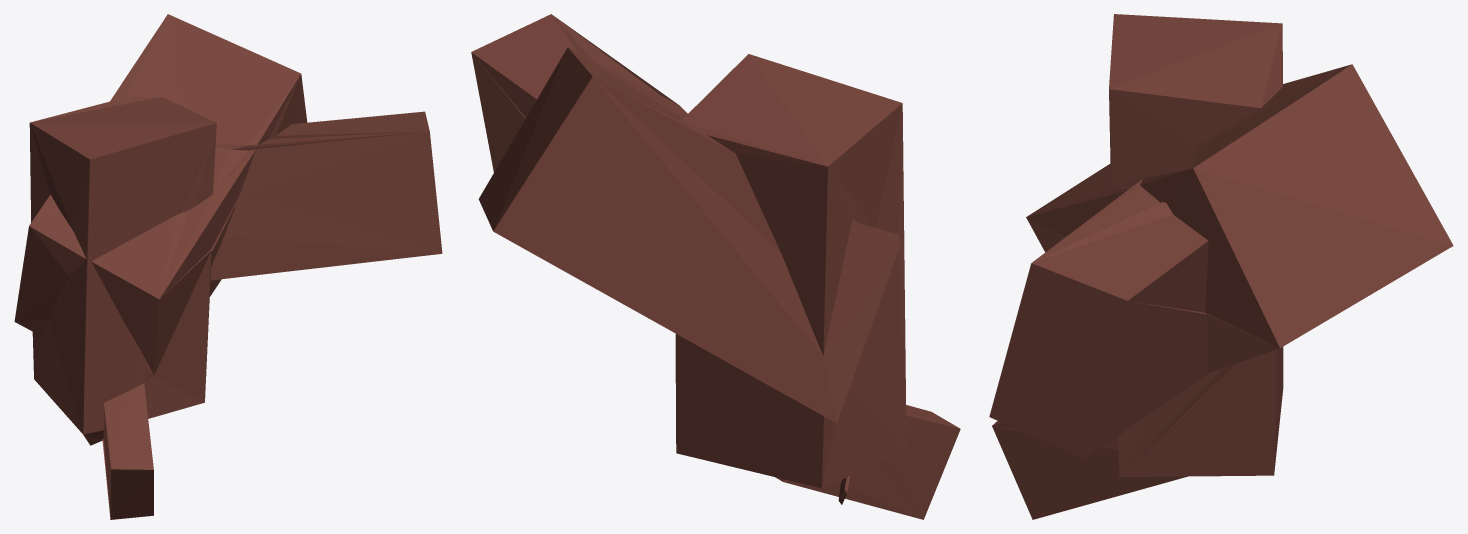
The picture shows the model from 3 angles, left to right: view 1: azimuth 30°, elevation 25°; view 2: azimuth 150°, elevation 25°; view 3: azimuth 270°, elevation 25°; orthographic projection. The views are drawn at different scales.
Visible parts, largest first — view 1: 832_Cube.3354; view 2: 832_Cube.3354; view 3: 832_Cube.3354.
Boxes of the visible parts, left/top/right/bottom form: 832_Cube.3354: left=14, top=14, right=442, bottom=519; 832_Cube.3354: left=471, top=14, right=960, bottom=519; 832_Cube.3354: left=989, top=14, right=1453, bottom=519.
Bounding box in the file's own units: 16.86 × 17.03 × 13.06.
